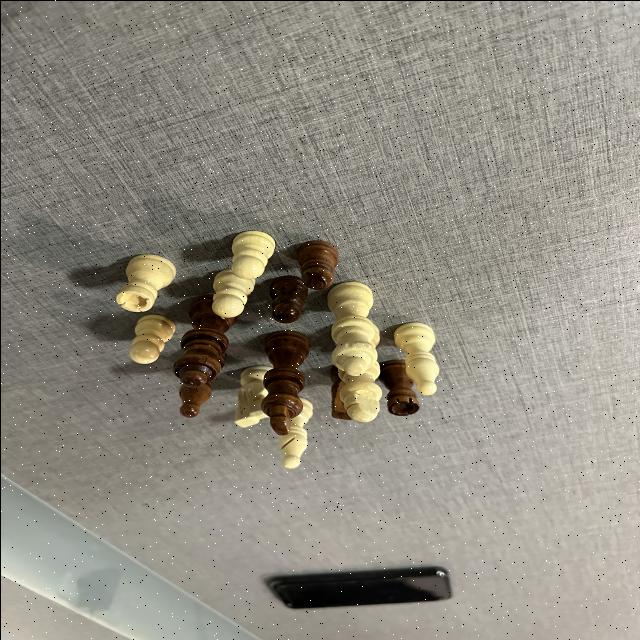Black-Bishop: (178, 381, 212, 417)
Black-King: (260, 330, 310, 434)
Black-Knight: (330, 366, 349, 420)
Black-Pawn: (294, 240, 338, 290), (267, 274, 307, 324)
Black-Queen: (171, 293, 237, 386)
Black-Rook: (376, 358, 418, 414)
White-Bishop: (392, 321, 438, 395), (276, 396, 312, 468)
White-King: (336, 362, 381, 422)
White-Knight: (232, 364, 274, 426)
White-Pawn: (128, 313, 174, 363), (210, 268, 255, 318), (230, 230, 274, 278)
White-Queen: (326, 281, 378, 375)
White-Rook: (114, 254, 176, 312)
